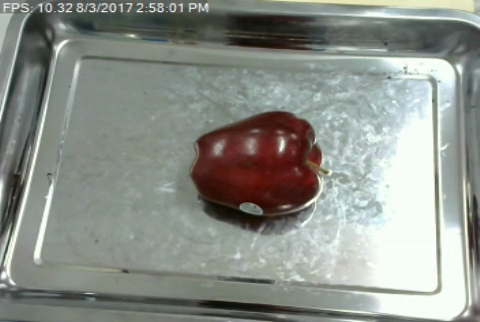Apple: (188, 110, 325, 222)
